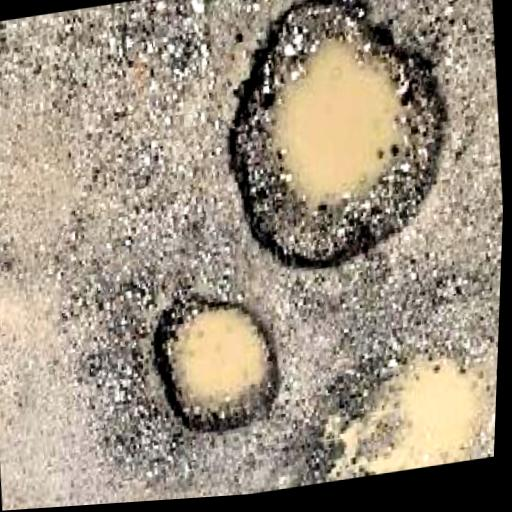pothole: (204, 0, 470, 291), (304, 332, 498, 484), (143, 284, 292, 448)
